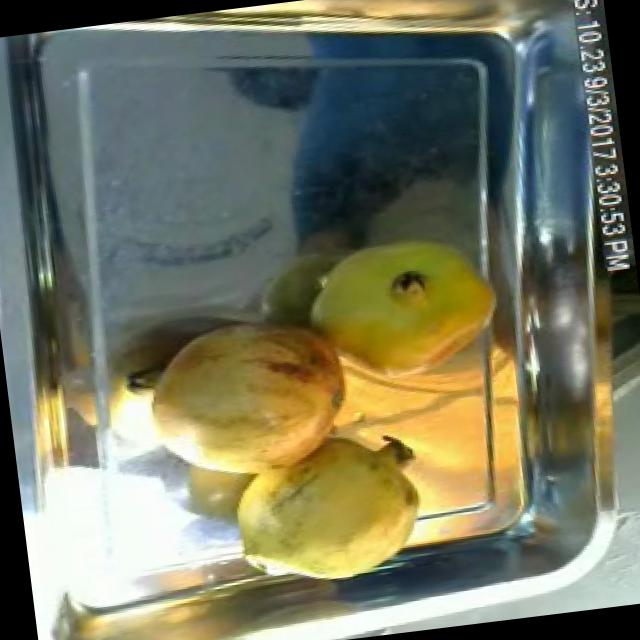fruit: (109, 296, 368, 502), (204, 406, 446, 602), (287, 208, 514, 400)
